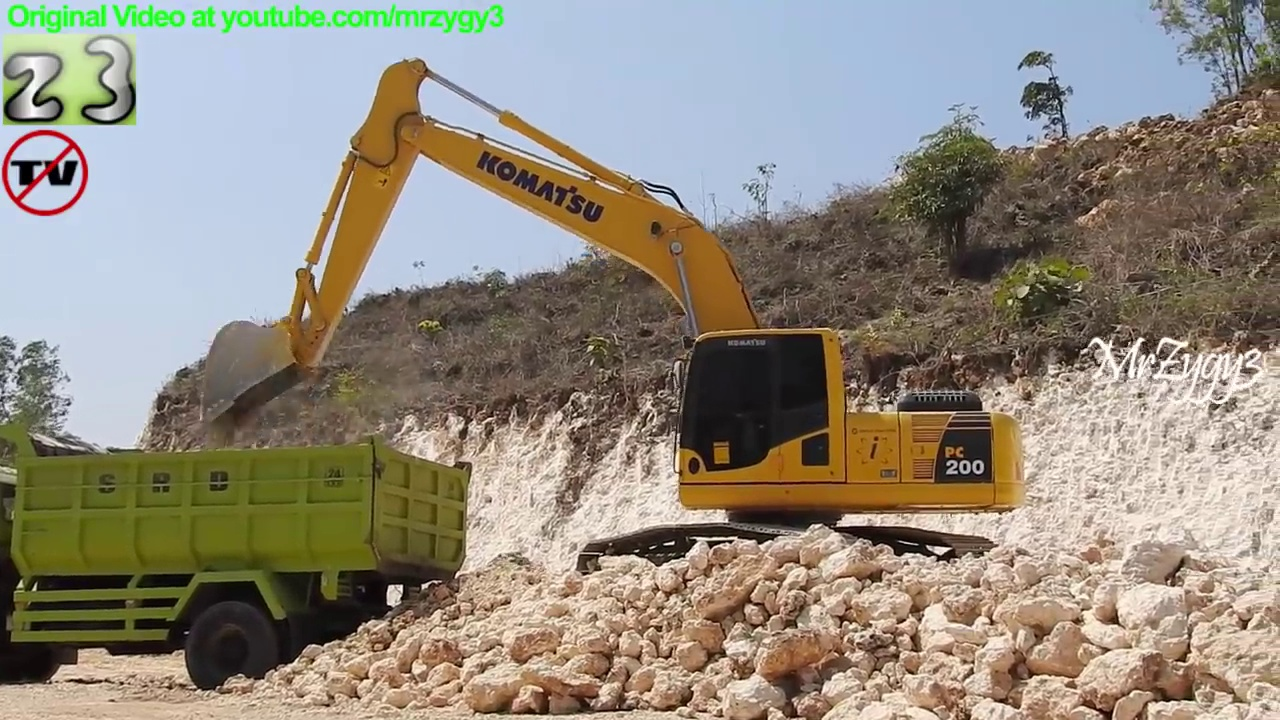excavator: (192, 54, 1034, 599)
truck: (1, 410, 479, 696)
